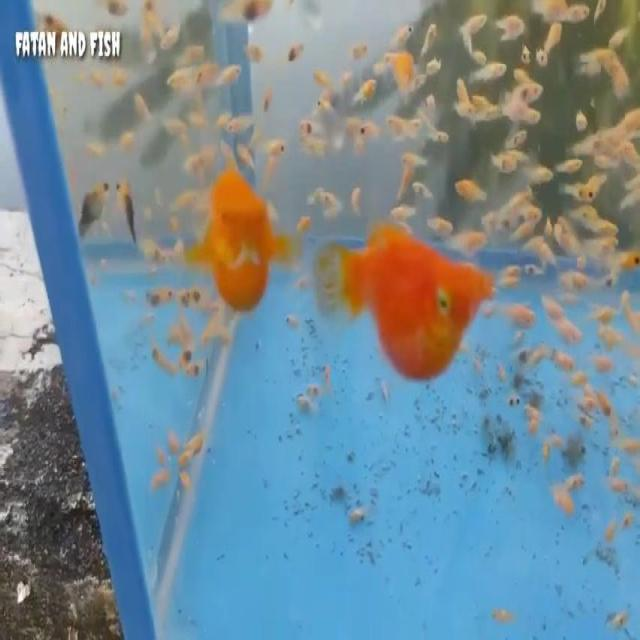PlatyFish: (312, 215, 501, 392)
